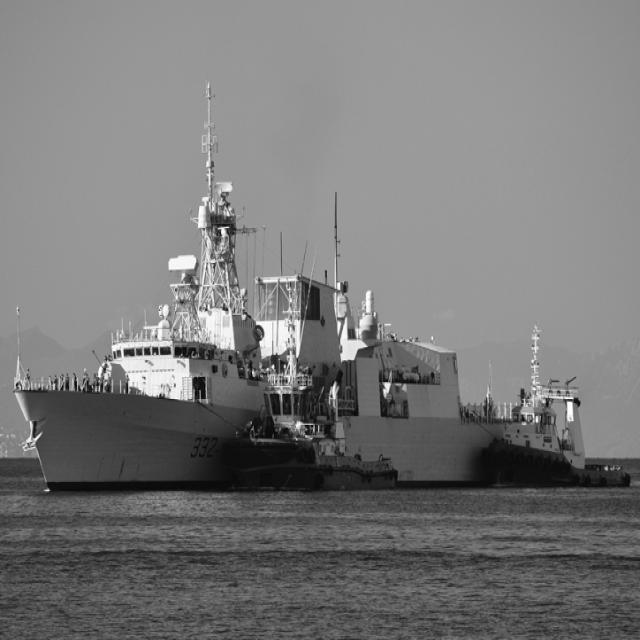Fragata: (11, 71, 592, 496)
